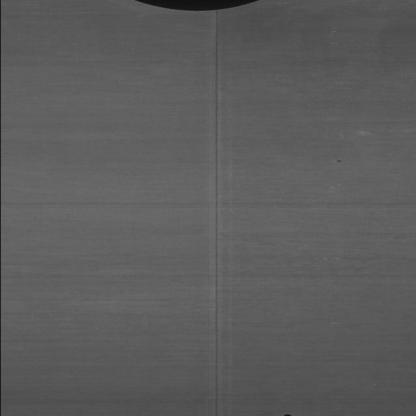punching_hole: (268, 408, 303, 416)
welding_line: (203, 0, 229, 414)
